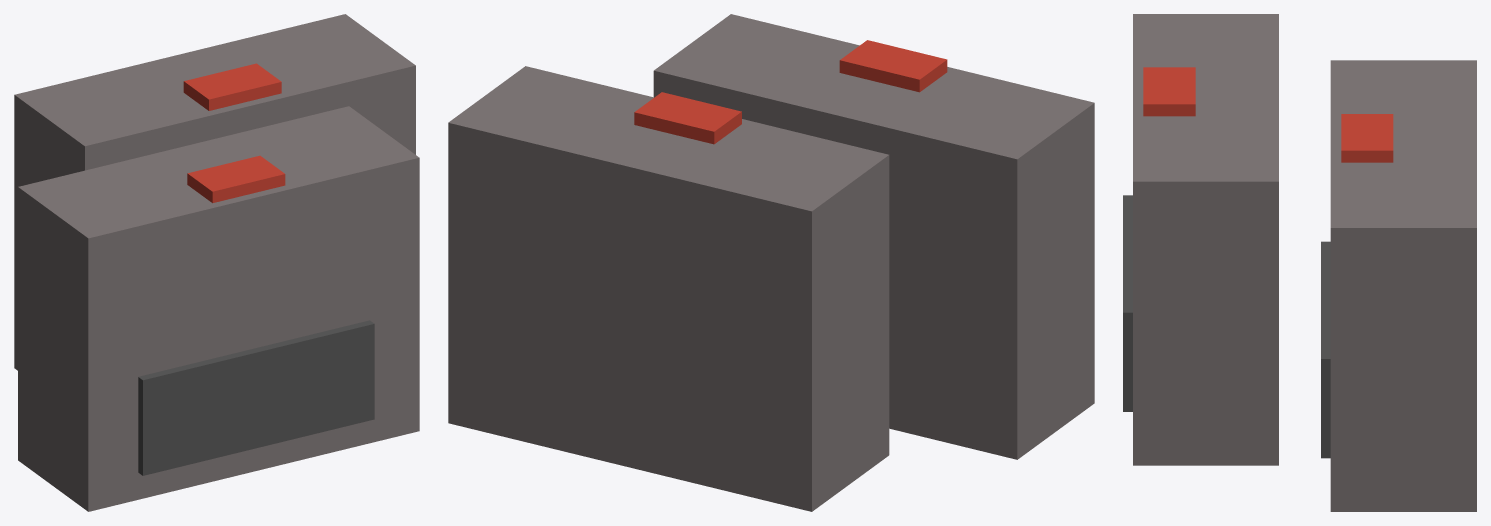
The model's file is ce_ammo2_railp_sabot_b.obj.
3 renders of one model, left to right at view 1: azimuth 30°, elevation 25°; view 2: azimuth 150°, elevation 25°; view 3: azimuth 270°, elevation 25°, orthographic. The views are drawn at different scales.
Visible parts, largest first — view 1: ce_ammo2_railp_sabot_b_3, ce_ammo2_railp_sabot_b_0, ce_ammo2_railp_sabot_b_5, ce_ammo2_railp_sabot_b_4, ce_ammo2_railp_sabot_b_1; view 2: ce_ammo2_railp_sabot_b_0, ce_ammo2_railp_sabot_b_3, ce_ammo2_railp_sabot_b_4, ce_ammo2_railp_sabot_b_1; view 3: ce_ammo2_railp_sabot_b_0, ce_ammo2_railp_sabot_b_3, ce_ammo2_railp_sabot_b_4, ce_ammo2_railp_sabot_b_1, ce_ammo2_railp_sabot_b_2, ce_ammo2_railp_sabot_b_5.
Part boxes in pixels (box(x1,y1,x2,y2)): ce_ammo2_railp_sabot_b_3: box(18, 106, 419, 511); ce_ammo2_railp_sabot_b_0: box(14, 14, 415, 370); ce_ammo2_railp_sabot_b_5: box(138, 320, 374, 475); ce_ammo2_railp_sabot_b_4: box(187, 155, 285, 203); ce_ammo2_railp_sabot_b_1: box(183, 63, 281, 110); ce_ammo2_railp_sabot_b_0: box(448, 66, 889, 511); ce_ammo2_railp_sabot_b_3: box(653, 14, 1094, 459); ce_ammo2_railp_sabot_b_4: box(839, 40, 947, 92); ce_ammo2_railp_sabot_b_1: box(634, 92, 741, 144); ce_ammo2_railp_sabot_b_0: box(1330, 60, 1476, 511); ce_ammo2_railp_sabot_b_3: box(1133, 14, 1278, 465); ce_ammo2_railp_sabot_b_4: box(1143, 67, 1195, 116); ce_ammo2_railp_sabot_b_1: box(1341, 114, 1393, 162); ce_ammo2_railp_sabot_b_2: box(1321, 241, 1330, 458); ce_ammo2_railp_sabot_b_5: box(1123, 195, 1132, 411).
Size of the model in its own units: 0.461 by 0.297 by 0.322.
